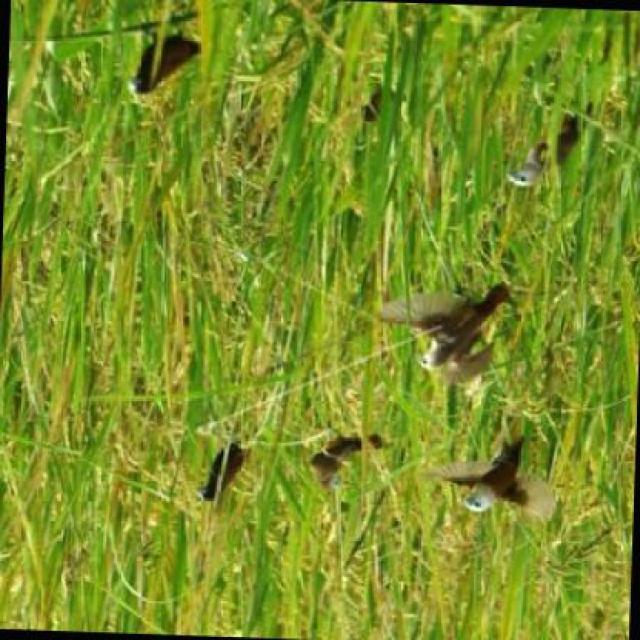Bird: (370, 279, 522, 387), (429, 432, 560, 525), (504, 99, 605, 193), (305, 430, 385, 493), (130, 31, 202, 99), (199, 440, 247, 506)
